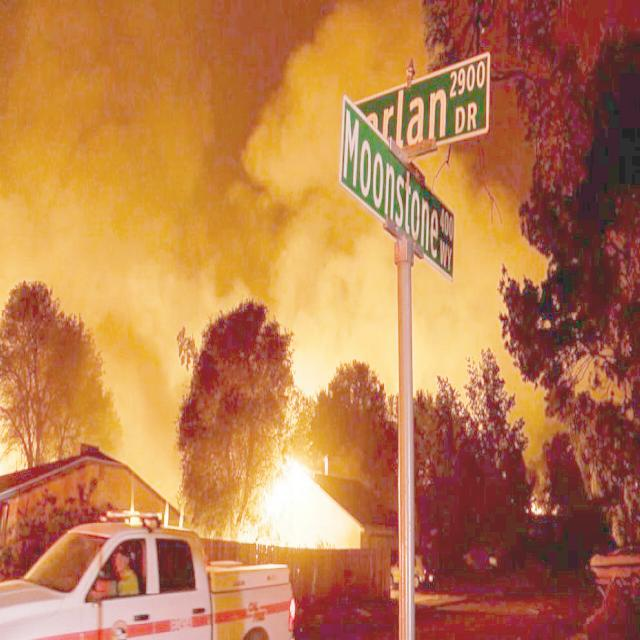api: (250, 450, 315, 546)
asap: (236, 1, 561, 408), (1, 1, 249, 512)
